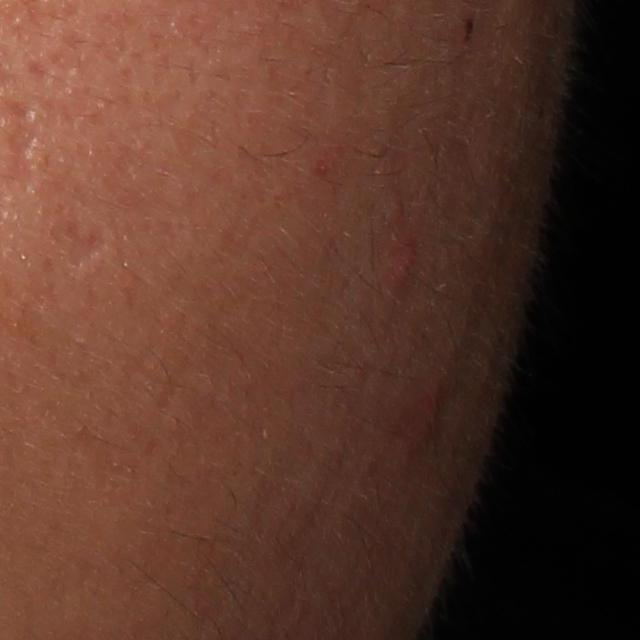atrophic_scar: (52, 214, 108, 277), (6, 106, 43, 194)
nevus: (462, 14, 480, 47)
papule: (411, 388, 449, 448), (389, 236, 421, 281)
